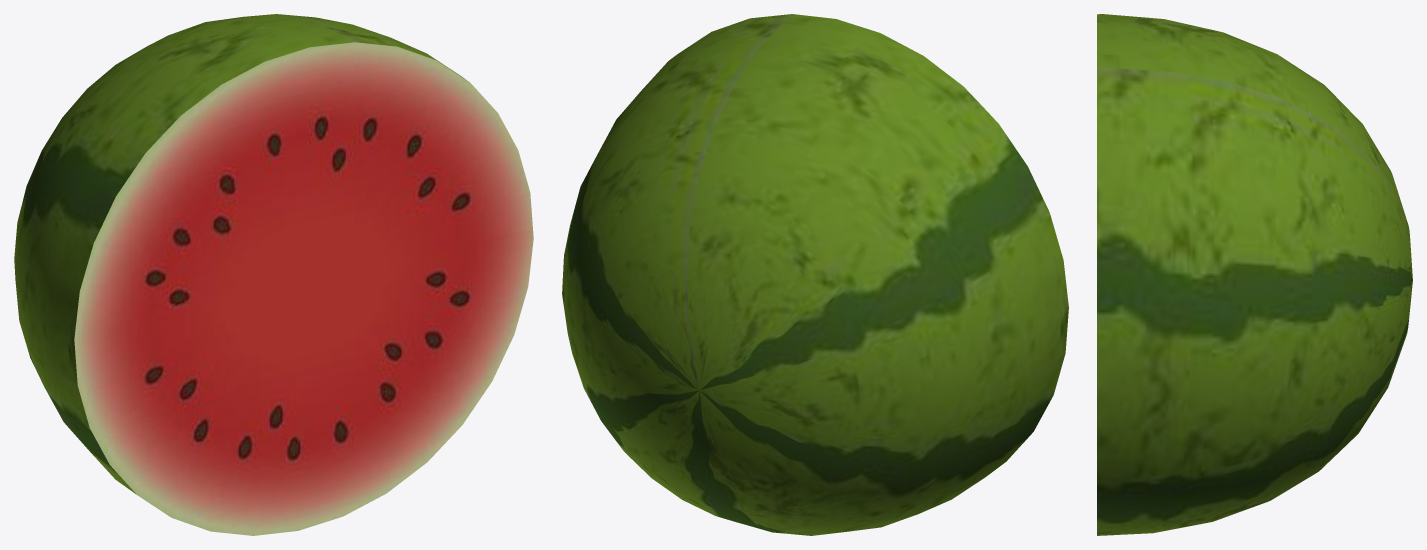
The model's file is watermelon_half2.obj.
3 views of the same model, side by side, from view 1: azimuth 30°, elevation 25°; view 2: azimuth 150°, elevation 25°; view 3: azimuth 270°, elevation 25° (orthographic).
Visible parts, largest first — view 1: Sphere01; view 2: Sphere01; view 3: Sphere01.
Boxes of the visible parts, x1=… form: Sphere01: x1=14, y1=14, x2=533, y2=535; Sphere01: x1=562, y1=14, x2=1068, y2=535; Sphere01: x1=1097, y1=14, x2=1412, y2=535.
Size of the model in its own units: 71.51 by 71.54 by 43.24.
2 materials, 2 textured.
